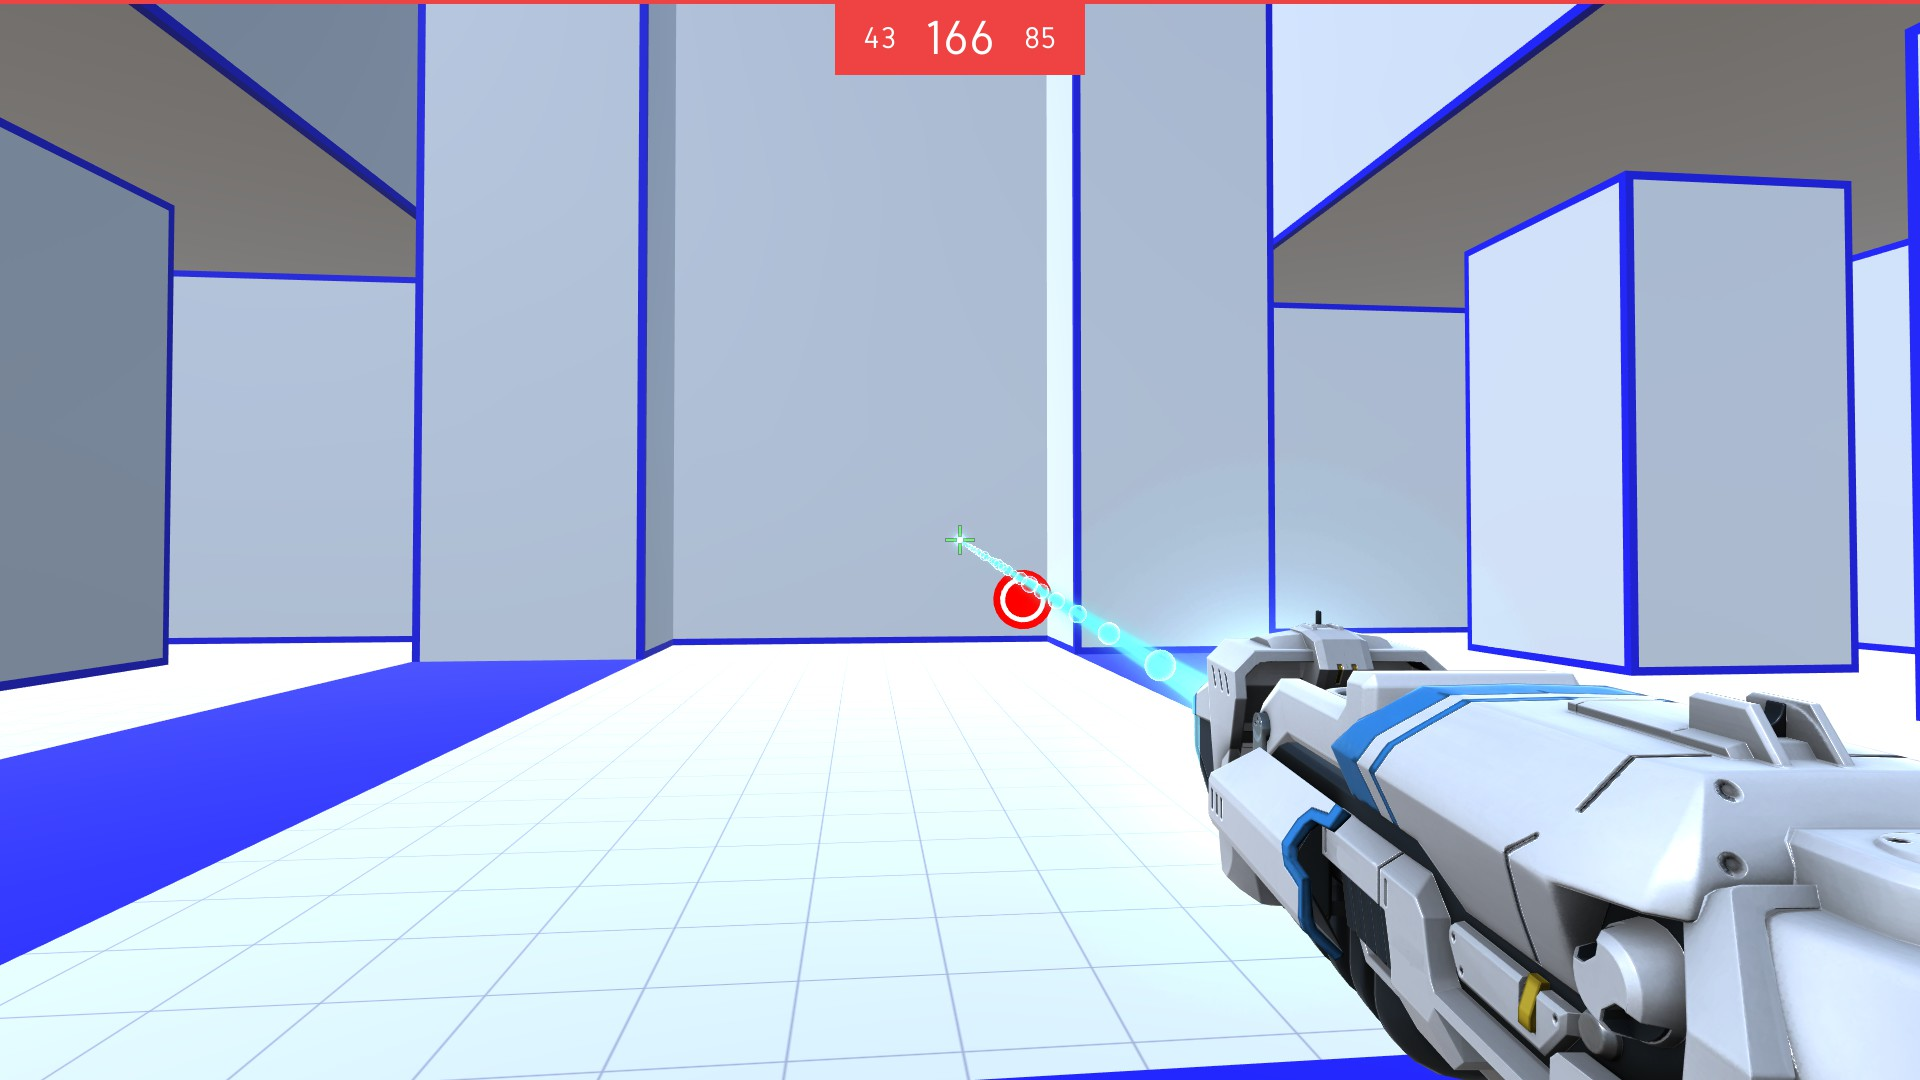target: (993, 568, 1055, 628)
